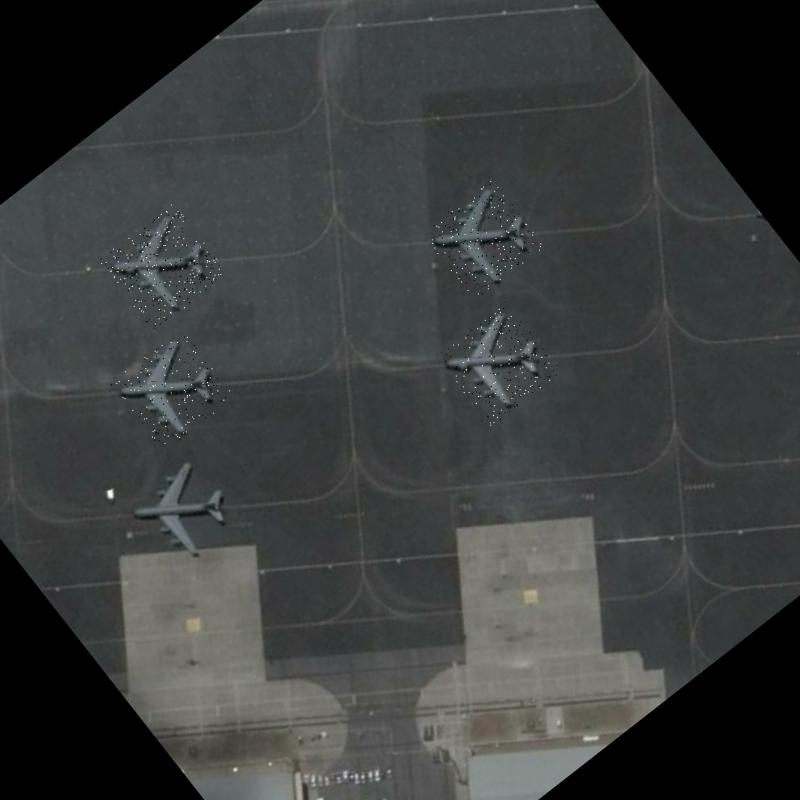A14: (98, 202, 229, 332), (120, 448, 250, 577), (435, 299, 562, 427), (109, 327, 236, 453), (422, 177, 546, 301)
